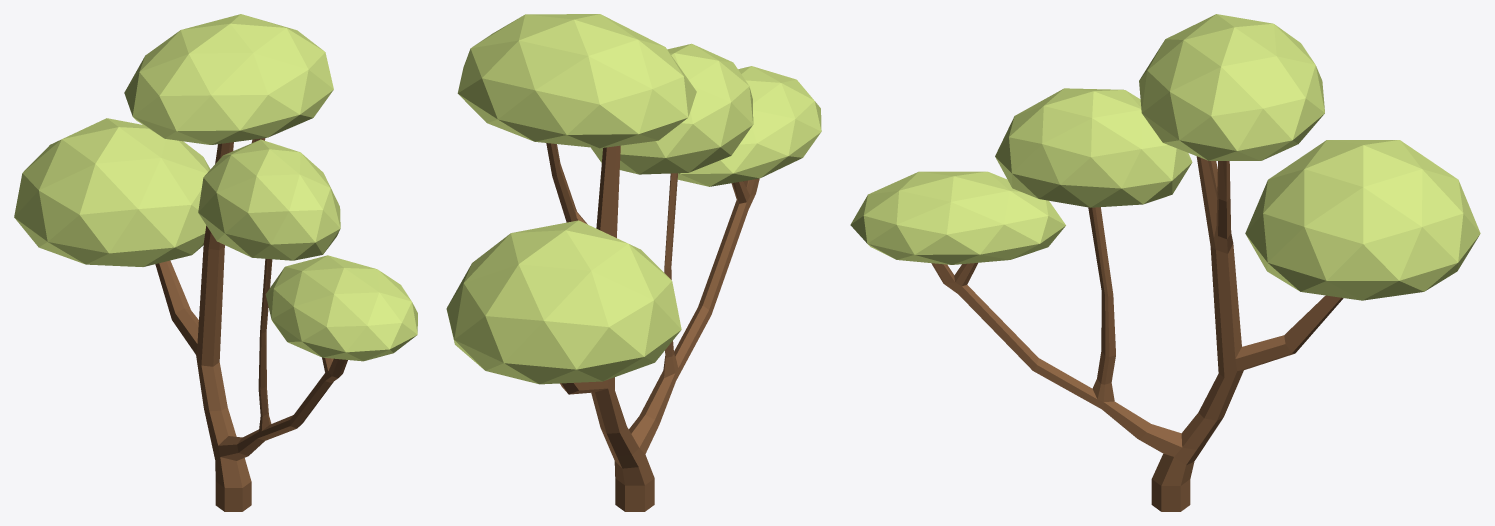
File: Tree4.glb
3 renders of one model, left to right at view 1: azimuth 30°, elevation 25°; view 2: azimuth 150°, elevation 25°; view 3: azimuth 270°, elevation 25°, orthographic. The views are drawn at different scales.
Parts seen in each view (by area): view 1: Tree4; view 2: Tree4; view 3: Tree4.
Boxes of the visible parts, <box> form: Tree4: <box>14,14,417,511</box>; Tree4: <box>446,14,821,511</box>; Tree4: <box>850,14,1480,511</box>.
Size of the model in its own units: 3.77 by 6.85 by 7.96.
